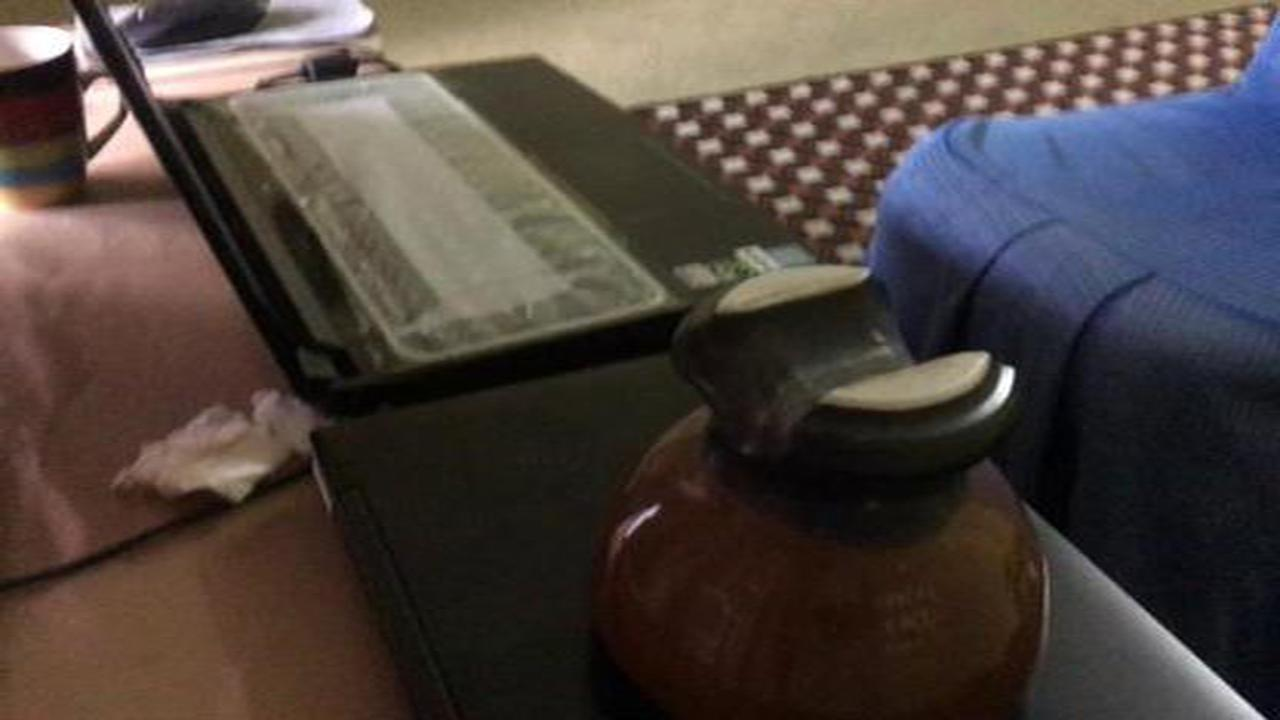insulator_pin: (579, 253, 1068, 720)
